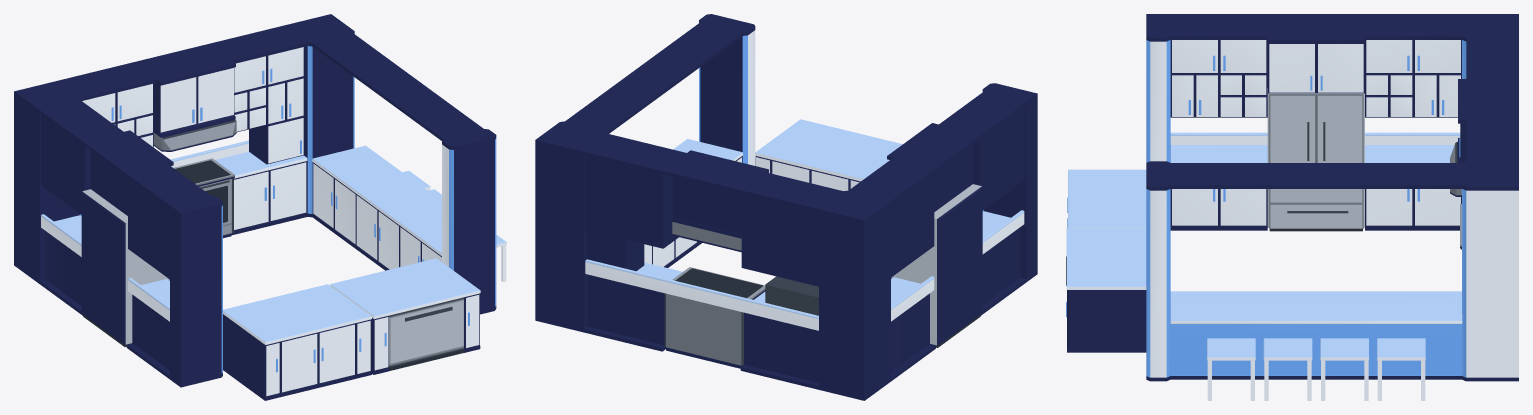
Rendered from kitchen.glb.
3 views of the same model, side by side, from view 1: azimuth 30°, elevation 25°; view 2: azimuth 150°, elevation 25°; view 3: azimuth 270°, elevation 25° (orthographic). The views are drawn at different scales.
Parts seen in each view (by area): view 1: kitchen_counter, Dishwasher, Dishwasher_T_1950_0.001, Fridge, Stove, Stool; view 2: kitchen_counter, Fridge, Stove, Dishwasher_T_1950_0.001, Microwave; view 3: kitchen_counter, Fridge, Dishwasher_T_1950_0.001, Stool, Dishwasher.
Boxes of the visible parts, <box> form: kitchen_counter: <box>14,14,496,387</box>; Dishwasher: <box>223,284,371,400</box>; Dishwasher_T_1950_0.001: <box>330,258,480,374</box>; Fridge: <box>81,189,169,346</box>; Stove: <box>153,115,236,238</box>; Stool: <box>402,170,506,281</box>; kitchen_counter: <box>535,14,1037,400</box>; Fridge: <box>891,184,982,347</box>; Stove: <box>664,218,765,368</box>; Dishwasher_T_1950_0.001: <box>755,119,902,190</box>; Microwave: <box>765,276,818,315</box>; kitchen_counter: <box>1146,14,1518,381</box>; Fridge: <box>1267,88,1364,231</box>; Dishwasher_T_1950_0.001: <box>1066,228,1146,352</box>; Stool: <box>1207,338,1425,400</box>; Dishwasher: <box>1067,169,1146,228</box>.
Size of the model in its own units: 1.13 by 0.53 by 1.12.
2 materials, 2 textured.
